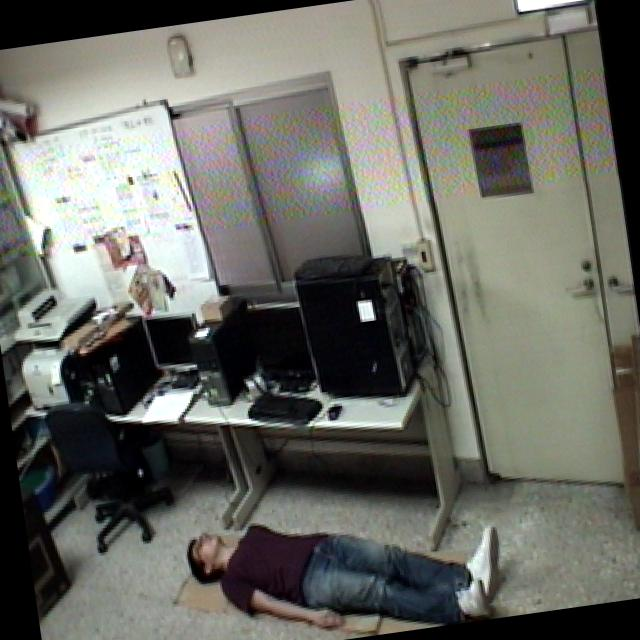lie: (174, 469, 513, 640)
